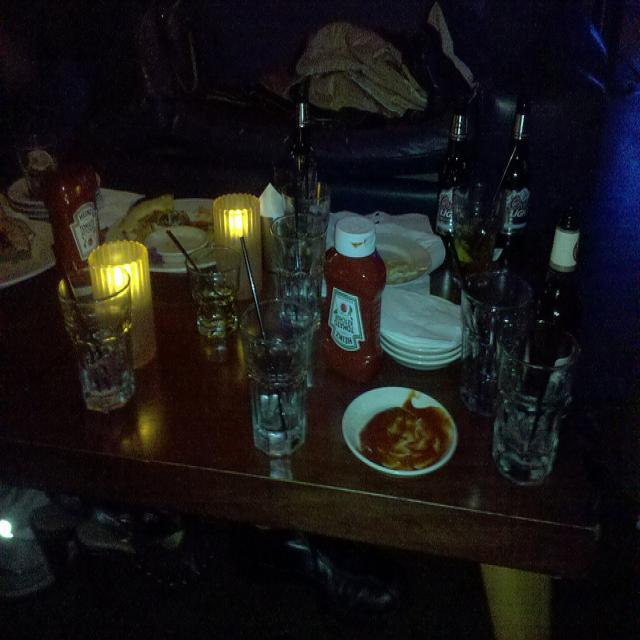Bottle: (36, 157, 116, 301), (329, 207, 385, 397), (271, 77, 340, 229), (486, 95, 540, 282), (533, 185, 590, 346), (431, 93, 481, 267)
Cup: (443, 258, 544, 428), (46, 255, 147, 421), (495, 319, 577, 500), (242, 298, 312, 463), (265, 220, 329, 335), (181, 239, 250, 345), (13, 121, 66, 196)
Table: (6, 185, 617, 635)
